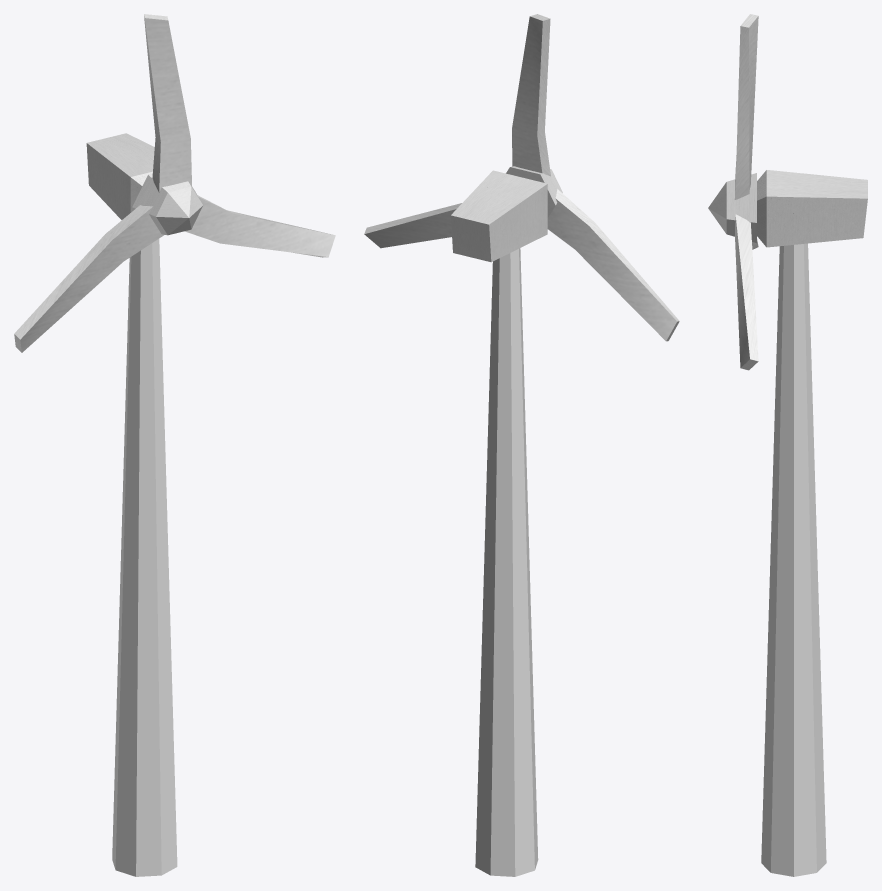
File: windmill.fbx
3 views of the same model, side by side, from view 1: azimuth 30°, elevation 25°; view 2: azimuth 150°, elevation 25°; view 3: azimuth 270°, elevation 25° (orthographic). The views are drawn at different scales.
Visible parts, largest first — view 1: windmill_base, windmill_blades; view 2: windmill_base, windmill_blades; view 3: windmill_base, windmill_blades.
Boxes of the visible parts, box(x1,y1,x2,y2) form: windmill_base: box(86, 133, 177, 876); windmill_blades: box(14, 14, 335, 352); windmill_base: box(451, 170, 547, 876); windmill_blades: box(364, 14, 679, 341); windmill_base: box(757, 170, 867, 876); windmill_blades: box(708, 14, 758, 370).
Bounding box in the file's own units: 8.98 × 23.11 × 4.
